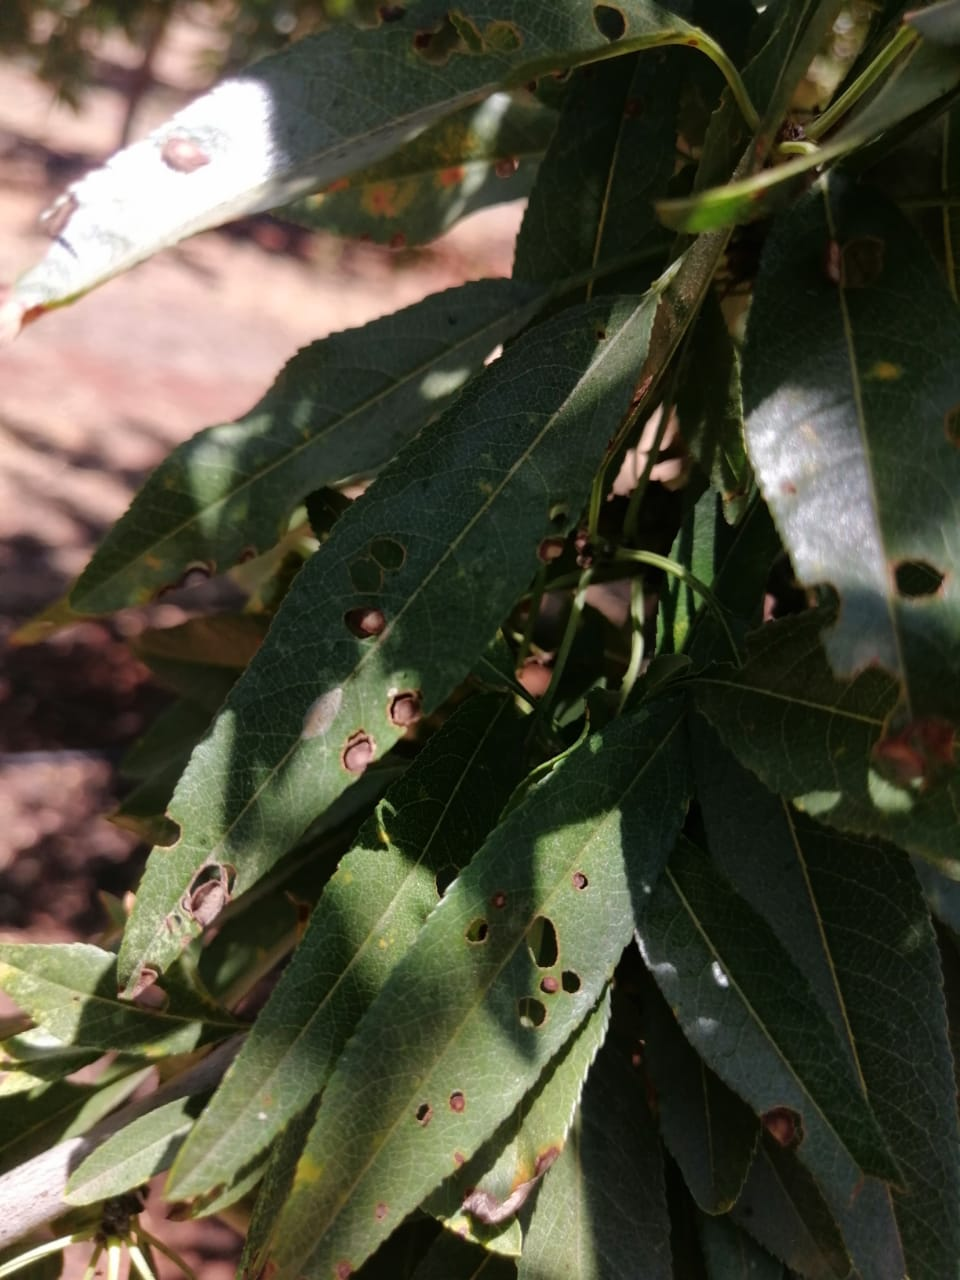coryneum: (111, 275, 665, 1004), (237, 684, 695, 1280), (59, 267, 575, 615), (741, 175, 910, 726)
